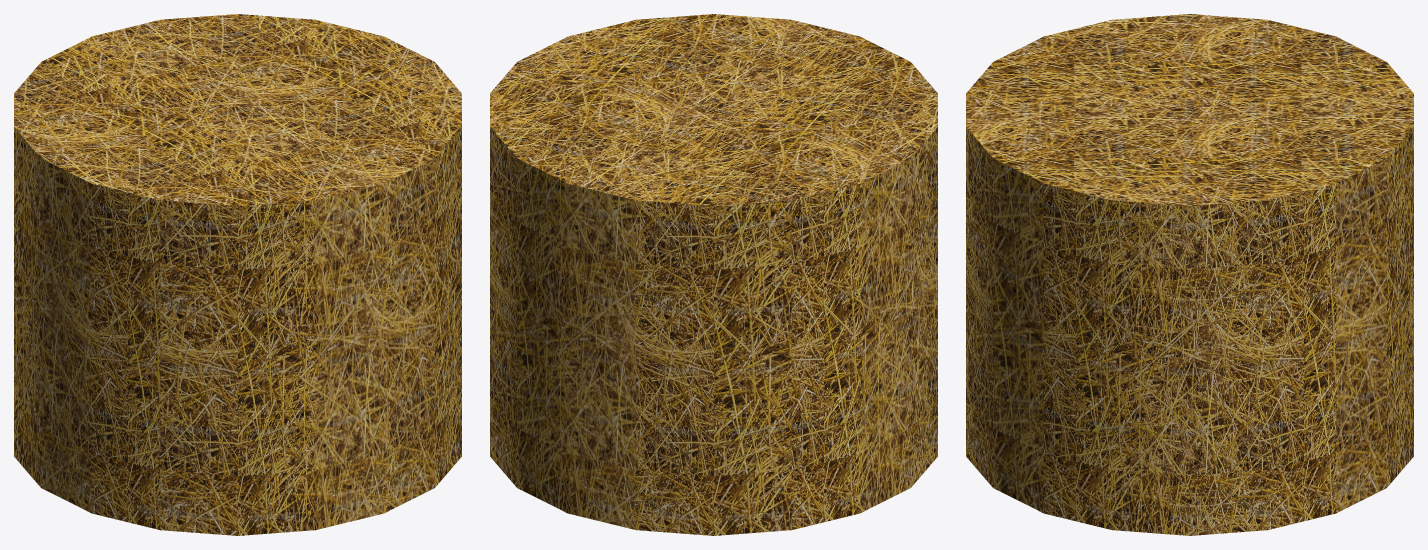
Rendered from thatch_roll.FBX.
3 views of the same model, side by side, from view 1: azimuth 30°, elevation 25°; view 2: azimuth 150°, elevation 25°; view 3: azimuth 270°, elevation 25° (orthographic).
Visible parts, largest first — view 1: Cylinder001; view 2: Cylinder001; view 3: Cylinder001.
Part boxes in pixels (x1,y1,x2,y2): Cylinder001: (14, 14, 461, 535); Cylinder001: (490, 14, 937, 535); Cylinder001: (966, 14, 1413, 535).
Bounding box in the file's own units: 50 × 40 × 49.24.
1 material, 1 textured.
